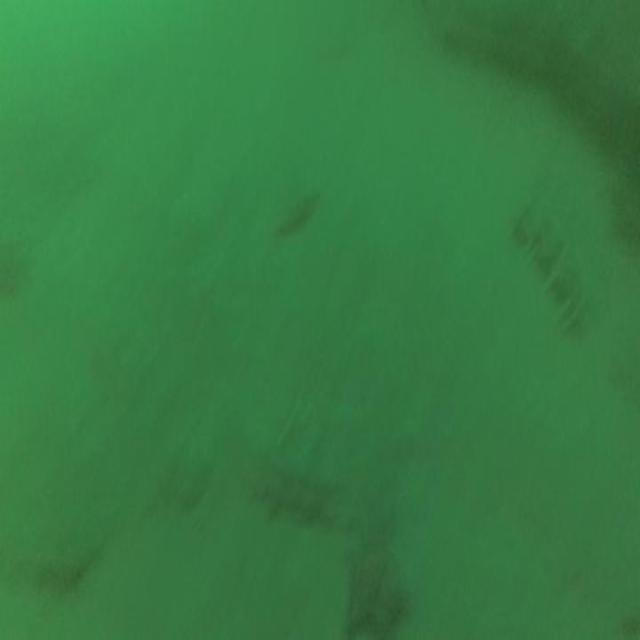holothurian: (512, 192, 588, 342), (243, 442, 345, 530)
starfish: (334, 512, 414, 640)
